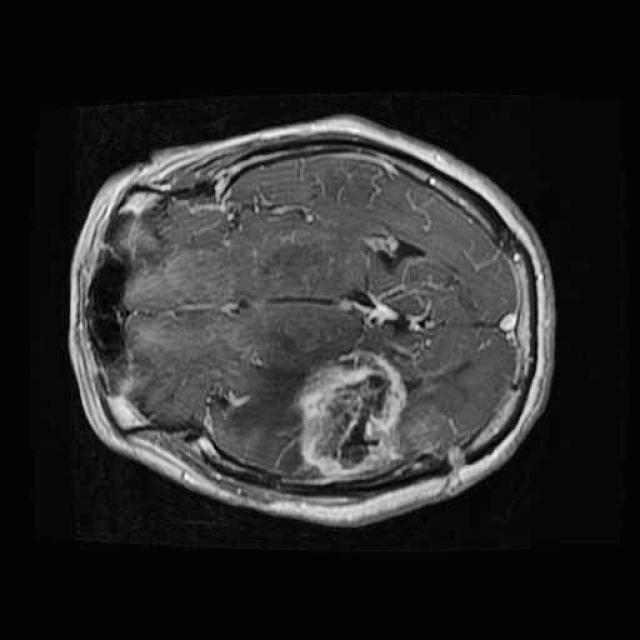Tumor: (284, 339, 414, 493)
